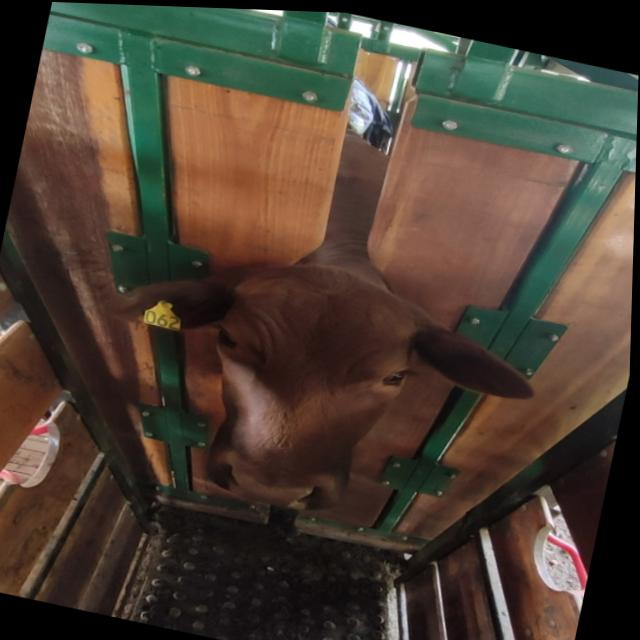cowFace: (187, 247, 434, 530)
